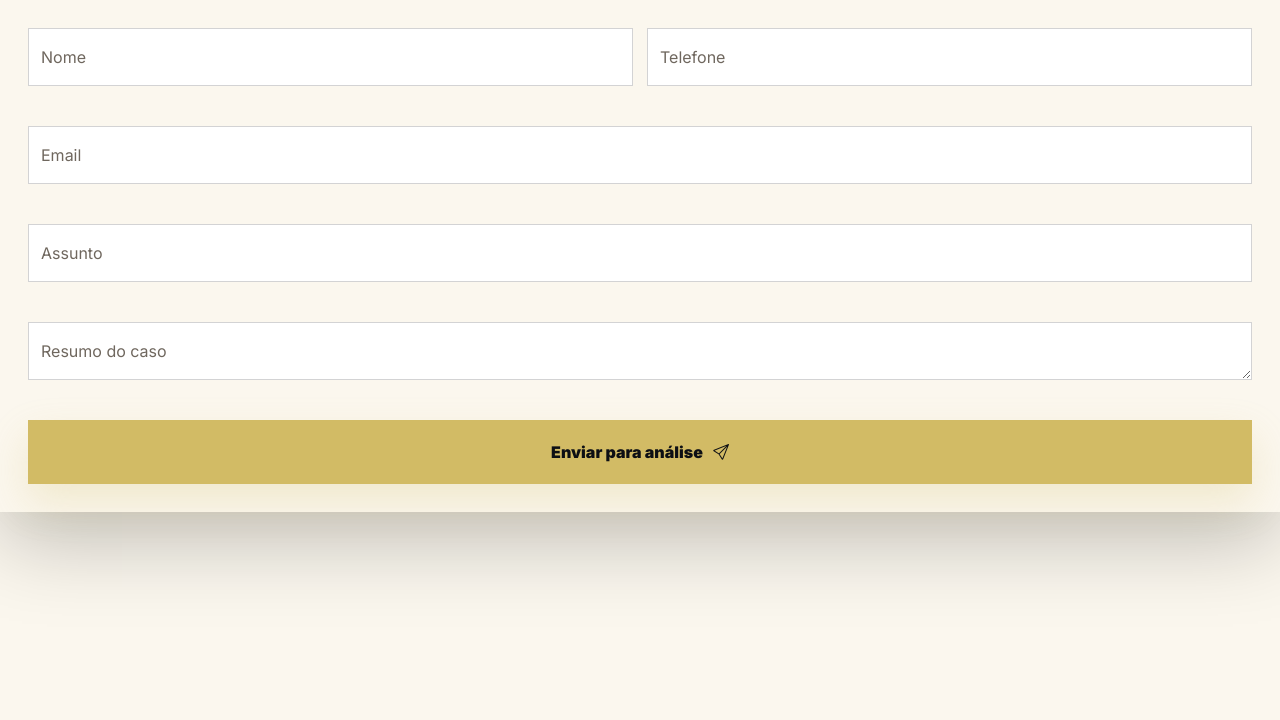
Scenario: contact form › shows all validation errors, focuses the first and clears an active error
The width and height of the screenshot is (1280, 720).
Click the button "Enviar para análise" at (640, 452), box x1=28 y1=420 x2=1252 y2=484
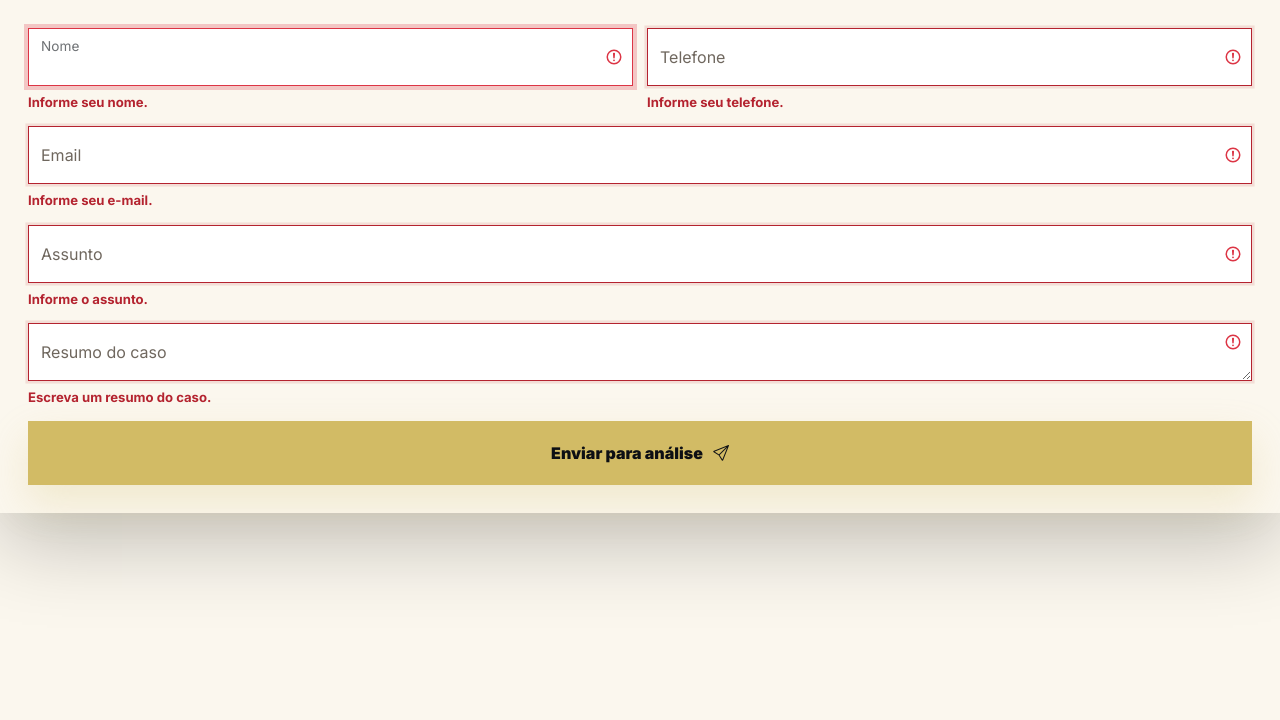
Check: the text "Informe seu nome." is shown, box x1=28 y1=94 x2=148 y2=110
Check: the text "Informe seu telefone." is shown, box x1=647 y1=94 x2=784 y2=110
Check: the text "Informe seu e-mail." is shown, box x1=28 y1=192 x2=152 y2=208
Type "Alice" into the field labelled "Nome" at (330, 57), box x1=28 y1=28 x2=633 y2=86
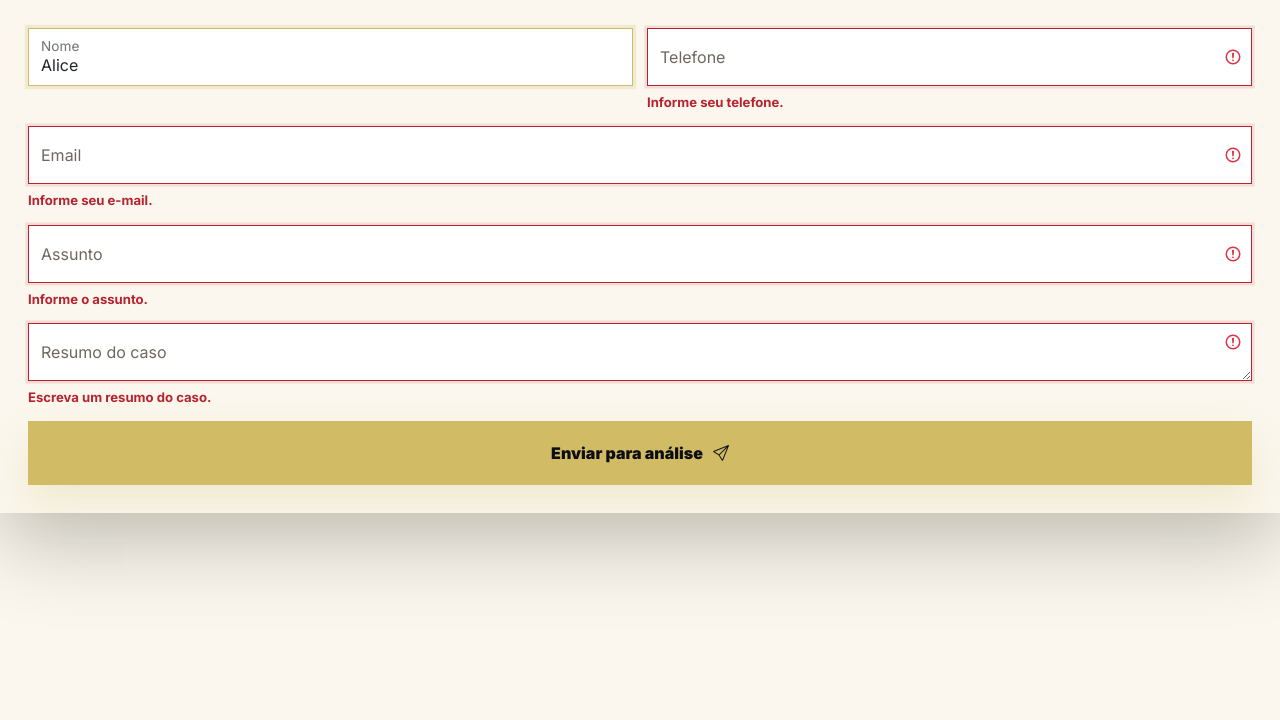
Check: the text "Informe seu nome." is gone
